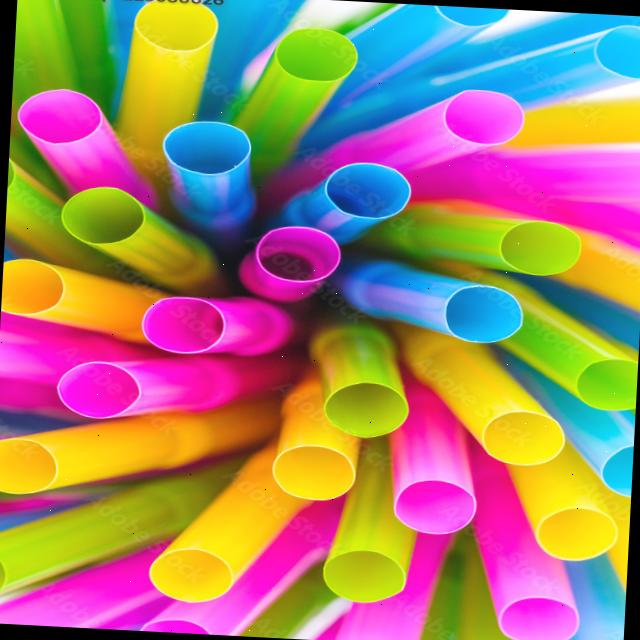plastic: (238, 12, 376, 142)
